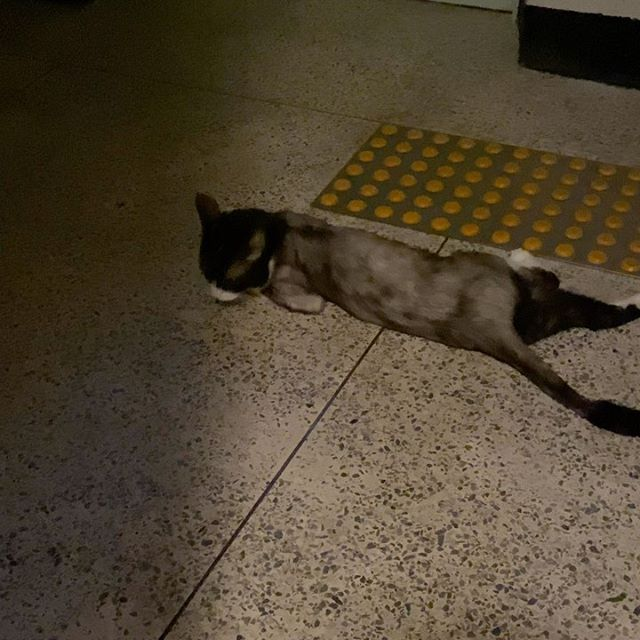cat: (187, 192, 298, 303)
